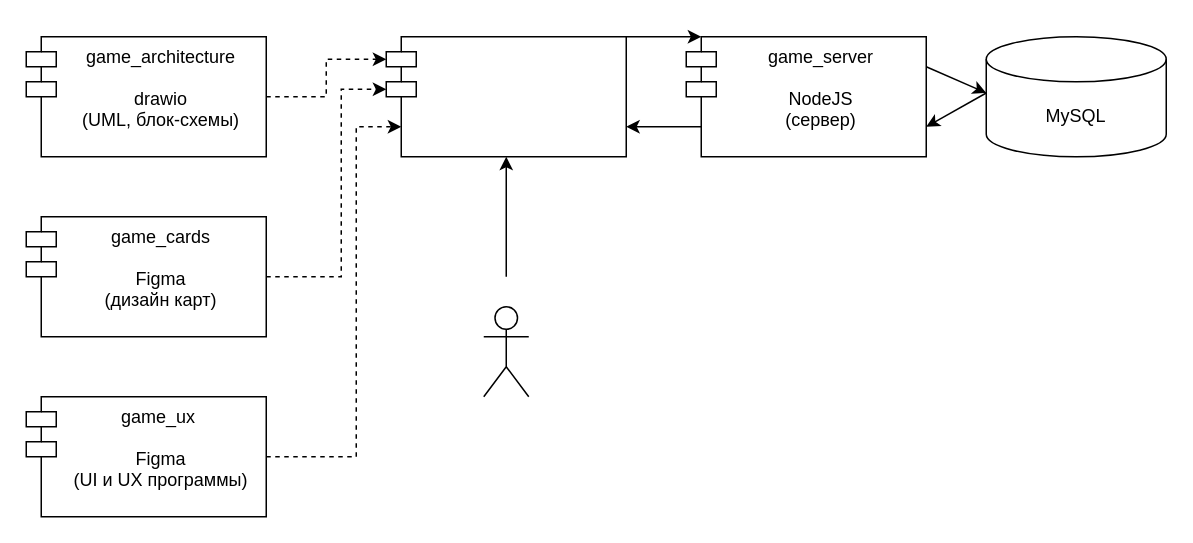
Some shapes in this 1193 by 543 pixel diagram are drawn without their labels. The centre of each missing label's shape, as x and y in pixels:
"browser_game ReactJS (игра сайт)" goes at (505,96).
"Игрок" goes at (505,351).
